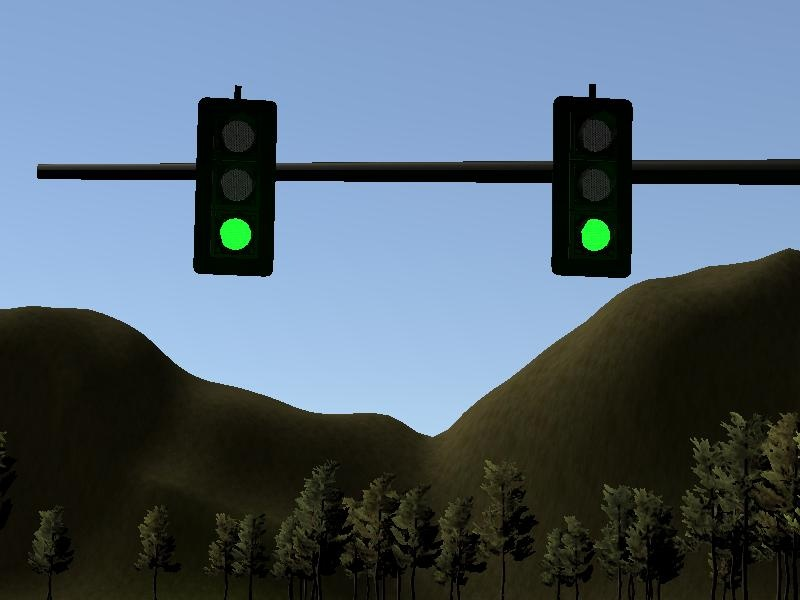traffic_light_green: (38, 83, 798, 279)
